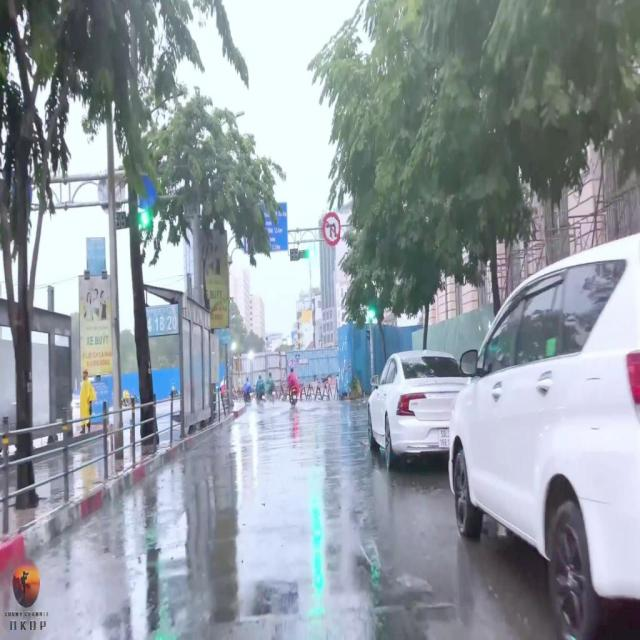khac: (321, 212, 340, 246)
